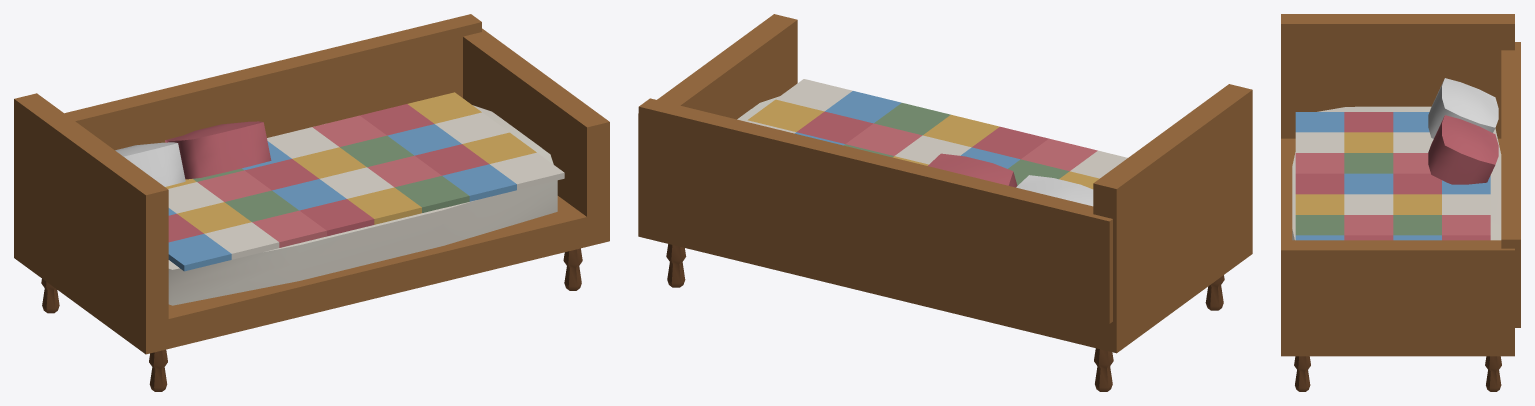
File: daybed.glb
The picture shows the model from 3 angles, left to right: view 1: azimuth 30°, elevation 25°; view 2: azimuth 150°, elevation 25°; view 3: azimuth 270°, elevation 25°; orthographic projection. The views are drawn at different scales.
Parts seen in each view (by area): view 1: furniture-daybed; view 2: furniture-daybed; view 3: furniture-daybed.
Part boxes in pixels (bbox=[...]): furniture-daybed: bbox=[14, 14, 609, 391]; furniture-daybed: bbox=[638, 14, 1252, 391]; furniture-daybed: bbox=[1281, 14, 1520, 391].
Size of the model in its own units: 2.44 by 1.05 by 1.23.
